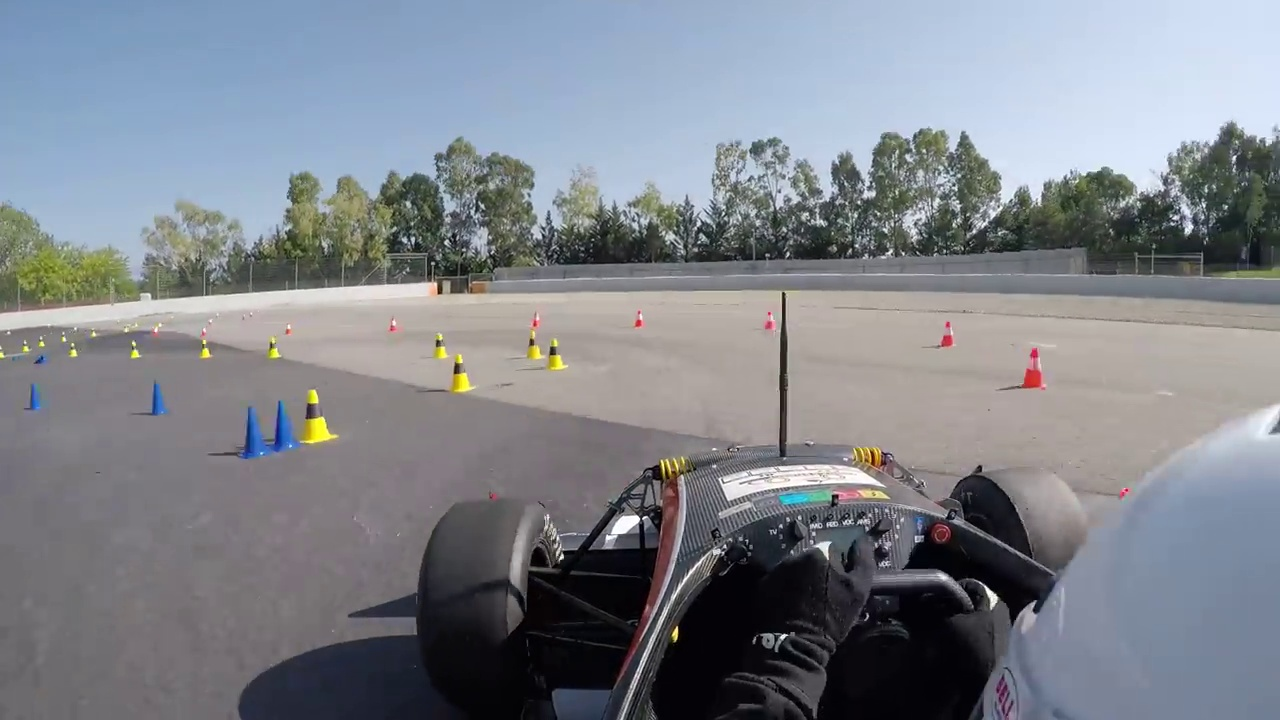Cone: (302, 386, 340, 443), (240, 400, 268, 464), (267, 398, 294, 457), (1020, 347, 1050, 388), (450, 353, 473, 395), (544, 335, 567, 371), (522, 330, 543, 359), (431, 331, 450, 362), (938, 320, 958, 345)
